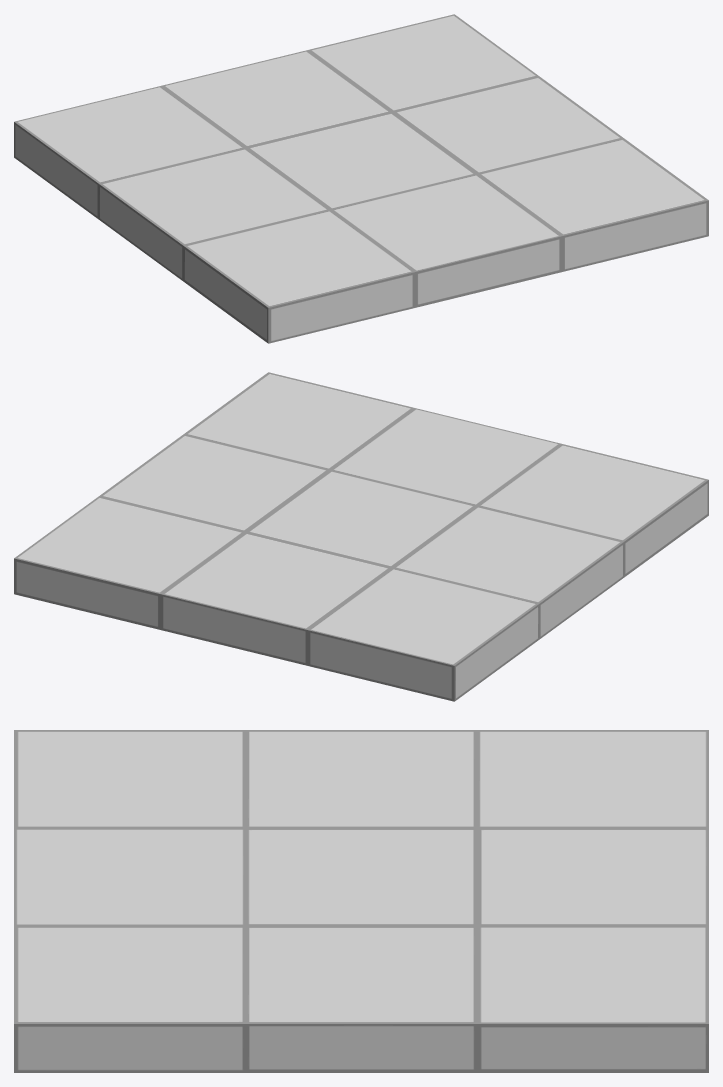
The model's file is jalan besar.fbx.
3 views of the same model, one above another, from view 1: azimuth 30°, elevation 25°; view 2: azimuth 150°, elevation 25°; view 3: azimuth 270°, elevation 25° (orthographic). The views are drawn at different scales.
Parts seen in each view (by area): view 1: jalan besar; view 2: jalan besar; view 3: jalan besar.
Part boxes in pixels (left/top/right/bottom): jalan besar: left=14, top=14, right=708, bottom=343; jalan besar: left=14, top=372, right=708, bottom=701; jalan besar: left=14, top=730, right=708, bottom=1072.
Size of the model in its own units: 900 by 70 by 900.
1 material, 1 textured.
